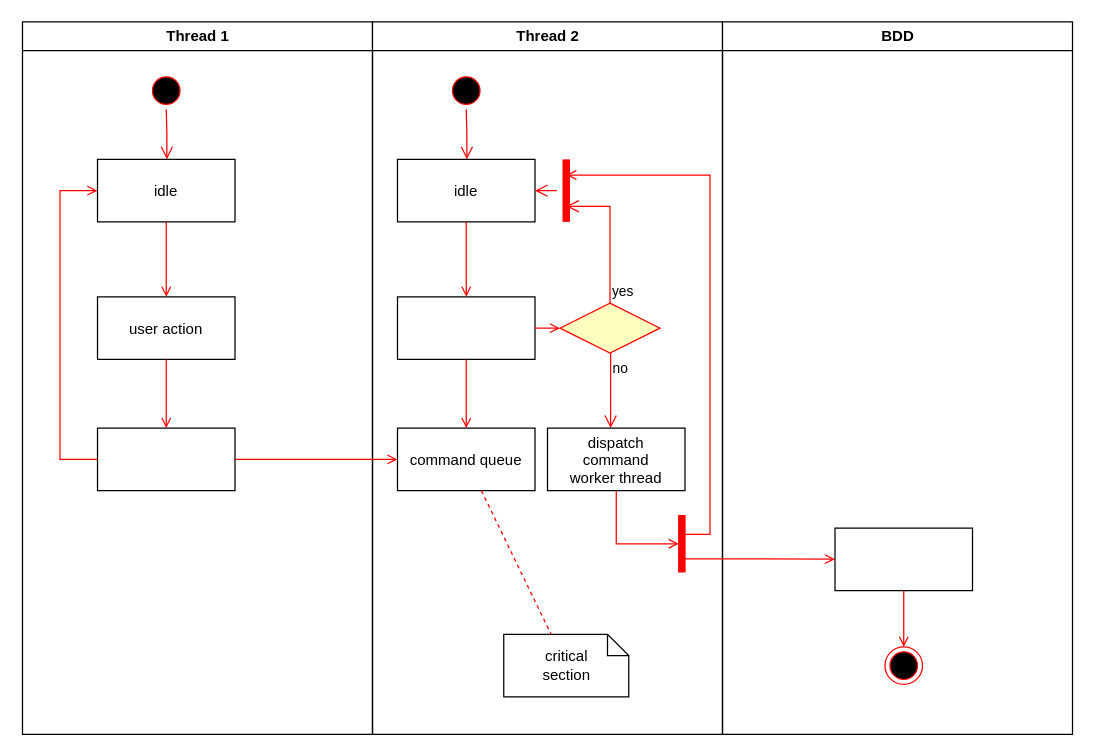
Image size: 1094x756. Some labels were removed from this diagram. Here are the shapes that lost their labels. From the top down, the centre of each, then its label:
At [465,327]: "check for new commands".
At [609,327]: "queue empty".
At [165,459]: "post command".
At [903,559]: "process command".
